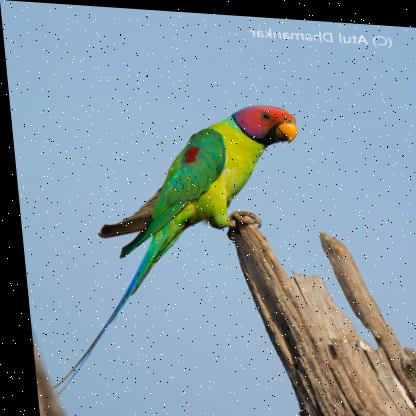Burung: (23, 88, 318, 409)
